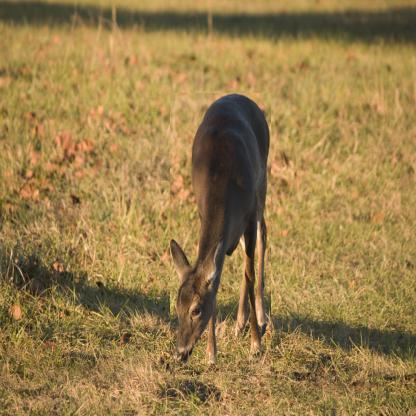Deer: (170, 93, 271, 375)
